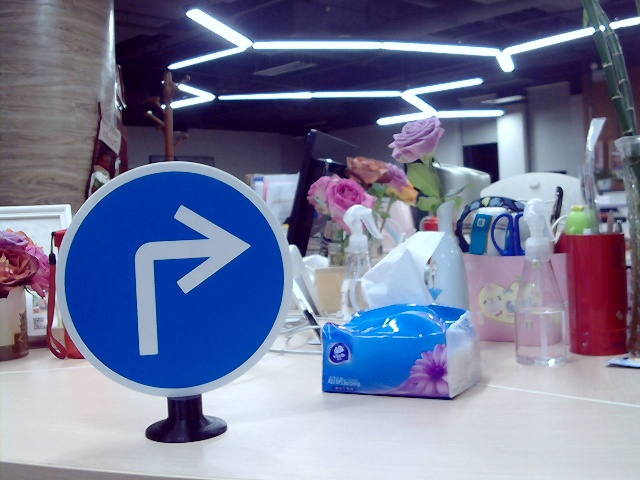turn_right: (119, 199, 254, 353)
